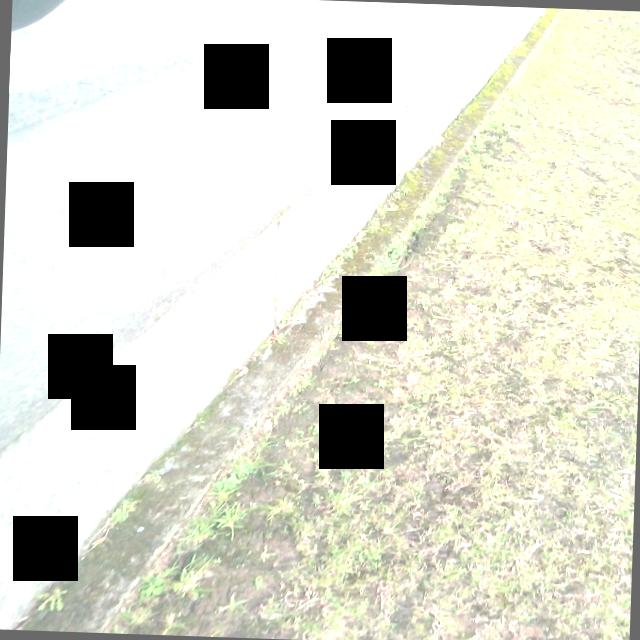DITCH: (0, 14, 587, 640), (0, 0, 552, 640), (0, 0, 520, 640)
